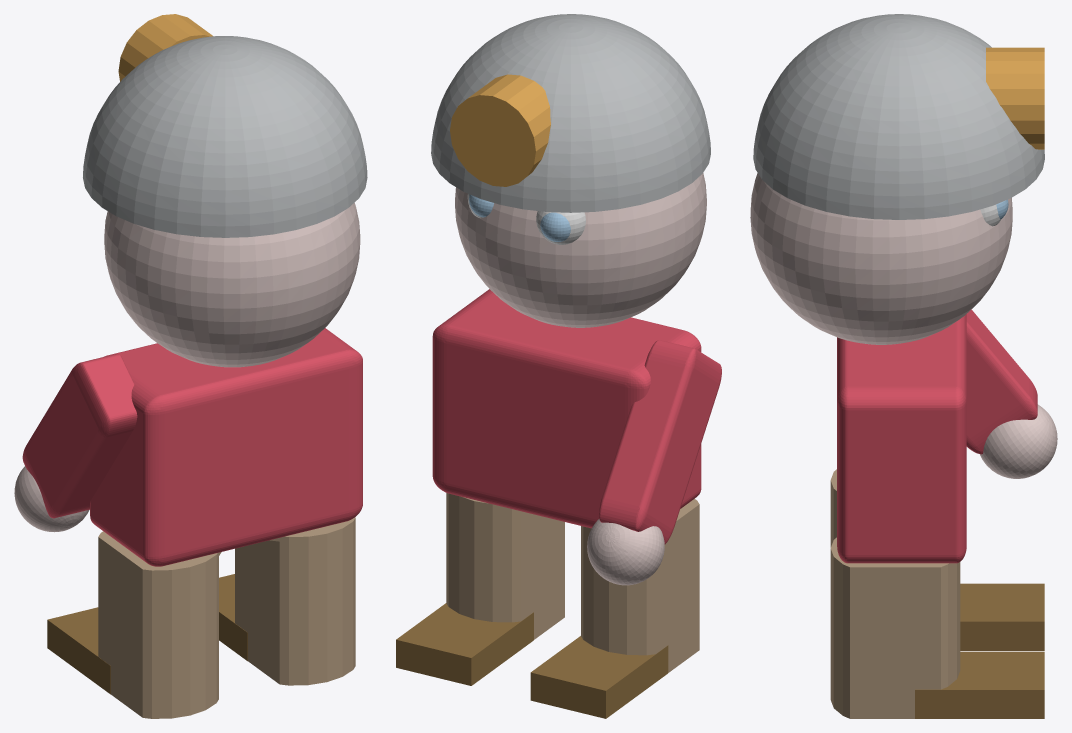
Rendered from miners_body.glb.
The picture shows the model from 3 angles, left to right: view 1: azimuth 30°, elevation 25°; view 2: azimuth 150°, elevation 25°; view 3: azimuth 270°, elevation 25°; orthographic projection. The views are drawn at different scales.
Visible parts, largest first — view 1: Mesh_Mesh_head_geo.001_lambert2SG.001; view 2: Mesh_Mesh_head_geo.001_lambert2SG.001; view 3: Mesh_Mesh_head_geo.001_lambert2SG.001.
Part boxes in pixels (x1,y1,x2,y2): Mesh_Mesh_head_geo.001_lambert2SG.001: [14, 14, 367, 718]; Mesh_Mesh_head_geo.001_lambert2SG.001: [396, 14, 721, 718]; Mesh_Mesh_head_geo.001_lambert2SG.001: [750, 14, 1057, 718].
Size of the model in its own units: 2.72 by 6 by 2.62.
